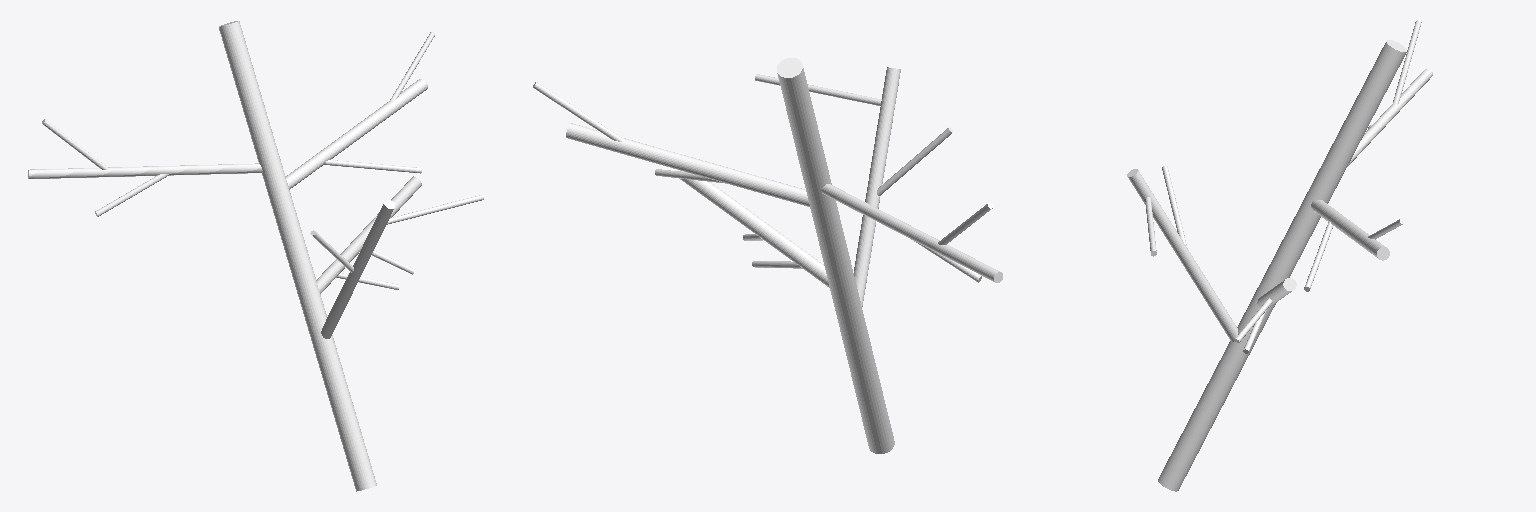
robot.urdf — tree_93.urdf:
<?xml version='1.0' encoding='UTF-8'?>
<robot name="tree_93.urdf">
  <link name="branch_0">
    <inertial>
      <origin xyz="0.0 0.0 0.0" rpy="0.0 -0.0 0.0"/>
      <mass value="1.0"/>
      <inertia ixx="1.0" ixy="0.0" ixz="0.0" iyy="1.0" iyz="0.0" izz="1.0"/>
    </inertial>
    <visual name="branch_0_visual">
      <geometry>
        <cylinder radius="0.15351411436087709" length="6.818421415187422"/>
      </geometry>
      <material name="branch_material"/>
      <origin xyz="-0.2530693742857766 1.4965127373265363 3.0527238931140914" rpy="-2.7755575615628914e-17 0.46139075308703276 1.738317526022926"/>
    </visual>
    <collision name="branch_0_collision">
      <geometry>
        <cylinder radius="0.15351411436087709" length="6.818421415187422"/>
      </geometry>
      <origin xyz="-0.2530693742857766 1.4965127373265363 3.0527238931140914" rpy="-2.7755575615628914e-17 0.46139075308703276 1.738317526022926"/>
    </collision>
  </link>
  <link name="branch_1">
    <inertial>
      <origin xyz="0.0 0.0 0.0" rpy="0.0 -0.0 0.0"/>
      <mass value="1.0"/>
      <inertia ixx="1.0" ixy="0.0" ixz="0.0" iyy="1.0" iyz="0.0" izz="1.0"/>
    </inertial>
    <visual name="branch_1_visual">
      <geometry>
        <cylinder radius="0.08304707432732915" length="2.9864211210712157"/>
      </geometry>
      <material name="branch_material"/>
      <origin xyz="0.0 0.0 0.0" rpy="0.0 -0.0 0.0"/>
    </visual>
    <collision name="branch_1_collision">
      <geometry>
        <cylinder radius="0.08304707432732915" length="2.9864211210712157"/>
      </geometry>
      <origin xyz="0.0 0.0 0.0" rpy="0.0 -0.0 0.0"/>
    </collision>
  </link>
  <link name="branch_2">
    <inertial>
      <origin xyz="0.0 0.0 0.0" rpy="0.0 -0.0 0.0"/>
      <mass value="1.0"/>
      <inertia ixx="1.0" ixy="0.0" ixz="0.0" iyy="1.0" iyz="0.0" izz="1.0"/>
    </inertial>
    <visual name="branch_2_visual">
      <geometry>
        <cylinder radius="0.04" length="1.7059392142212688"/>
      </geometry>
      <material name="branch_material"/>
      <origin xyz="0.0 0.0 0.0" rpy="0.0 -0.0 0.0"/>
    </visual>
    <collision name="branch_2_collision">
      <geometry>
        <cylinder radius="0.04" length="1.7059392142212688"/>
      </geometry>
      <origin xyz="0.0 0.0 0.0" rpy="0.0 -0.0 0.0"/>
    </collision>
  </link>
  <link name="branch_3">
    <inertial>
      <origin xyz="0.0 0.0 0.0" rpy="0.0 -0.0 0.0"/>
      <mass value="1.0"/>
      <inertia ixx="1.0" ixy="0.0" ixz="0.0" iyy="1.0" iyz="0.0" izz="1.0"/>
    </inertial>
    <visual name="branch_3_visual">
      <geometry>
        <cylinder radius="0.04" length="1.3146801640244725"/>
      </geometry>
      <material name="branch_material"/>
      <origin xyz="0.0 0.0 0.0" rpy="0.0 -0.0 0.0"/>
    </visual>
    <collision name="branch_3_collision">
      <geometry>
        <cylinder radius="0.04" length="1.3146801640244725"/>
      </geometry>
      <origin xyz="0.0 0.0 0.0" rpy="0.0 -0.0 0.0"/>
    </collision>
  </link>
  <link name="branch_4">
    <inertial>
      <origin xyz="0.0 0.0 0.0" rpy="0.0 -0.0 0.0"/>
      <mass value="1.0"/>
      <inertia ixx="1.0" ixy="0.0" ixz="0.0" iyy="1.0" iyz="0.0" izz="1.0"/>
    </inertial>
    <visual name="branch_4_visual">
      <geometry>
        <cylinder radius="0.09128935980733967" length="3.067179369036539"/>
      </geometry>
      <material name="branch_material"/>
      <origin xyz="0.0 0.0 0.0" rpy="0.0 -0.0 0.0"/>
    </visual>
    <collision name="branch_4_collision">
      <geometry>
        <cylinder radius="0.09128935980733967" length="3.067179369036539"/>
      </geometry>
      <origin xyz="0.0 0.0 0.0" rpy="0.0 -0.0 0.0"/>
    </collision>
  </link>
  <link name="branch_5">
    <inertial>
      <origin xyz="0.0 0.0 0.0" rpy="0.0 -0.0 0.0"/>
      <mass value="1.0"/>
      <inertia ixx="1.0" ixy="0.0" ixz="0.0" iyy="1.0" iyz="0.0" izz="1.0"/>
    </inertial>
    <visual name="branch_5_visual">
      <geometry>
        <cylinder radius="0.04" length="1.5644731136967114"/>
      </geometry>
      <material name="branch_material"/>
      <origin xyz="0.0 0.0 0.0" rpy="0.0 -0.0 0.0"/>
    </visual>
    <collision name="branch_5_collision">
      <geometry>
        <cylinder radius="0.04" length="1.5644731136967114"/>
      </geometry>
      <origin xyz="0.0 0.0 0.0" rpy="0.0 -0.0 0.0"/>
    </collision>
  </link>
  <link name="branch_6">
    <inertial>
      <origin xyz="0.0 0.0 0.0" rpy="0.0 -0.0 0.0"/>
      <mass value="1.0"/>
      <inertia ixx="1.0" ixy="0.0" ixz="0.0" iyy="1.0" iyz="0.0" izz="1.0"/>
    </inertial>
    <visual name="branch_6_visual">
      <geometry>
        <cylinder radius="0.04" length="1.360397177433686"/>
      </geometry>
      <material name="branch_material"/>
      <origin xyz="0.0 0.0 0.0" rpy="0.0 -0.0 0.0"/>
    </visual>
    <collision name="branch_6_collision">
      <geometry>
        <cylinder radius="0.04" length="1.360397177433686"/>
      </geometry>
      <origin xyz="0.0 0.0 0.0" rpy="0.0 -0.0 0.0"/>
    </collision>
  </link>
  <link name="branch_7">
    <inertial>
      <origin xyz="0.0 0.0 0.0" rpy="0.0 -0.0 0.0"/>
      <mass value="1.0"/>
      <inertia ixx="1.0" ixy="0.0" ixz="0.0" iyy="1.0" iyz="0.0" izz="1.0"/>
    </inertial>
    <visual name="branch_7_visual">
      <geometry>
        <cylinder radius="0.06896295375014307" length="3.442721780825523"/>
      </geometry>
      <material name="branch_material"/>
      <origin xyz="0.0 0.0 0.0" rpy="0.0 -0.0 0.0"/>
    </visual>
    <collision name="branch_7_collision">
      <geometry>
        <cylinder radius="0.06896295375014307" length="3.442721780825523"/>
      </geometry>
      <origin xyz="0.0 0.0 0.0" rpy="0.0 -0.0 0.0"/>
    </collision>
  </link>
  <link name="branch_8">
    <inertial>
      <origin xyz="0.0 0.0 0.0" rpy="0.0 -0.0 0.0"/>
      <mass value="1.0"/>
      <inertia ixx="1.0" ixy="0.0" ixz="0.0" iyy="1.0" iyz="0.0" izz="1.0"/>
    </inertial>
    <visual name="branch_8_visual">
      <geometry>
        <cylinder radius="0.04283286241382316" length="1.2624558255575156"/>
      </geometry>
      <material name="branch_material"/>
      <origin xyz="0.0 0.0 0.0" rpy="0.0 -0.0 0.0"/>
    </visual>
    <collision name="branch_8_collision">
      <geometry>
        <cylinder radius="0.04283286241382316" length="1.2624558255575156"/>
      </geometry>
      <origin xyz="0.0 0.0 0.0" rpy="0.0 -0.0 0.0"/>
    </collision>
  </link>
  <link name="branch_9">
    <inertial>
      <origin xyz="0.0 0.0 0.0" rpy="0.0 -0.0 0.0"/>
      <mass value="1.0"/>
      <inertia ixx="1.0" ixy="0.0" ixz="0.0" iyy="1.0" iyz="0.0" izz="1.0"/>
    </inertial>
    <visual name="branch_9_visual">
      <geometry>
        <cylinder radius="0.04" length="1.2751810798749723"/>
      </geometry>
      <material name="branch_material"/>
      <origin xyz="0.0 0.0 0.0" rpy="0.0 -0.0 0.0"/>
    </visual>
    <collision name="branch_9_collision">
      <geometry>
        <cylinder radius="0.04" length="1.2751810798749723"/>
      </geometry>
      <origin xyz="0.0 0.0 0.0" rpy="0.0 -0.0 0.0"/>
    </collision>
  </link>
  <link name="branch_10">
    <inertial>
      <origin xyz="0.0 0.0 0.0" rpy="0.0 -0.0 0.0"/>
      <mass value="1.0"/>
      <inertia ixx="1.0" ixy="0.0" ixz="0.0" iyy="1.0" iyz="0.0" izz="1.0"/>
    </inertial>
    <visual name="branch_10_visual">
      <geometry>
        <cylinder radius="0.08939212043829362" length="2.31613501663962"/>
      </geometry>
      <material name="branch_material"/>
      <origin xyz="0.0 0.0 0.0" rpy="0.0 -0.0 0.0"/>
    </visual>
    <collision name="branch_10_collision">
      <geometry>
        <cylinder radius="0.08939212043829362" length="2.31613501663962"/>
      </geometry>
      <origin xyz="0.0 0.0 0.0" rpy="0.0 -0.0 0.0"/>
    </collision>
  </link>
  <link name="branch_11">
    <inertial>
      <origin xyz="0.0 0.0 0.0" rpy="0.0 -0.0 0.0"/>
      <mass value="1.0"/>
      <inertia ixx="1.0" ixy="0.0" ixz="0.0" iyy="1.0" iyz="0.0" izz="1.0"/>
    </inertial>
    <visual name="branch_11_visual">
      <geometry>
        <cylinder radius="0.04" length="0.8813783189782513"/>
      </geometry>
      <material name="branch_material"/>
      <origin xyz="0.0 0.0 0.0" rpy="0.0 -0.0 0.0"/>
    </visual>
    <collision name="branch_11_collision">
      <geometry>
        <cylinder radius="0.04" length="0.8813783189782513"/>
      </geometry>
      <origin xyz="0.0 0.0 0.0" rpy="0.0 -0.0 0.0"/>
    </collision>
  </link>
  <link name="branch_12">
    <inertial>
      <origin xyz="0.0 0.0 0.0" rpy="0.0 -0.0 0.0"/>
      <mass value="1.0"/>
      <inertia ixx="1.0" ixy="0.0" ixz="0.0" iyy="1.0" iyz="0.0" izz="1.0"/>
    </inertial>
    <visual name="branch_12_visual">
      <geometry>
        <cylinder radius="0.04" length="1.0190474809430379"/>
      </geometry>
      <material name="branch_material"/>
      <origin xyz="0.0 0.0 0.0" rpy="0.0 -0.0 0.0"/>
    </visual>
    <collision name="branch_12_collision">
      <geometry>
        <cylinder radius="0.04" length="1.0190474809430379"/>
      </geometry>
      <origin xyz="0.0 0.0 0.0" rpy="0.0 -0.0 0.0"/>
    </collision>
  </link>
  <joint name="joint_0_1" type="fixed">
    <parent link="branch_0"/>
    <child link="branch_1"/>
    <axis xyz="1. 0. 0."/>
    <origin xyz="-0.027777948669087695 0.2434563036230218 3.2510396350801907" rpy="-0.005467285661553573 0.5045993440241653 -1.3962921062265123"/>
  </joint>
  <joint name="joint_0_4" type="fixed">
    <parent link="branch_0"/>
    <child link="branch_4"/>
    <axis xyz="1. 0. 0."/>
    <origin xyz="1.1098265813982777 2.3683453596802444 4.22351736205122" rpy="-1.1498559493061864 1.0615134379962414 -0.8957073757942373"/>
  </joint>
  <joint name="joint_0_7" type="fixed">
    <parent link="branch_0"/>
    <child link="branch_7"/>
    <axis xyz="1. 0. 0."/>
    <origin xyz="-1.9342963644233166 2.732392561566729 4.258633874229963" rpy="1.4974631859828291 1.1697851736243412 -2.0375698035275542"/>
  </joint>
  <joint name="joint_0_10" type="fixed">
    <parent link="branch_0"/>
    <child link="branch_10"/>
    <axis xyz="1. 0. 0."/>
    <origin xyz="0.76785213741575 1.4148041444110375 3.1164292134805516" rpy="-0.6978866944611786 0.8347472554458836 -0.6657424239275618"/>
  </joint>
  <joint name="joint_1_2" type="fixed">
    <parent link="branch_0"/>
    <child link="branch_2"/>
    <axis xyz="1. 0. 0."/>
    <origin xyz="0.9201973328135187 -0.2279457061693211 4.180323028093148" rpy="1.598557953048084 1.0705425544539457 1.641127503157561"/>
  </joint>
  <joint name="joint_1_3" type="fixed">
    <parent link="branch_0"/>
    <child link="branch_3"/>
    <axis xyz="1. 0. 0."/>
    <origin xyz="-0.46279819821379203 0.10132325203559053 3.711229178285805" rpy="-0.5632785140019441 0.5594163181636045 2.59843666913856"/>
  </joint>
  <joint name="joint_4_5" type="fixed">
    <parent link="branch_0"/>
    <child link="branch_5"/>
    <axis xyz="1. 0. 0."/>
    <origin xyz="1.1932333144969456 1.9898919180682588 3.9078595392347393" rpy="-1.8535915731232155 0.638349535093635 -1.9708898092558833"/>
  </joint>
  <joint name="joint_4_6" type="fixed">
    <parent link="branch_0"/>
    <child link="branch_6"/>
    <axis xyz="1. 0. 0."/>
    <origin xyz="2.3355000388316105 2.8286915856460415 4.758234473145128" rpy="0.4420680271583908 -0.8996505853890169 3.0329645402445573"/>
  </joint>
  <joint name="joint_7_8" type="fixed">
    <parent link="branch_0"/>
    <child link="branch_8"/>
    <axis xyz="1. 0. 0."/>
    <origin xyz="-2.249456014849317 2.6377657836855324 4.039748579204416" rpy="2.026293803322137 0.7121021326026258 -1.3002224877668103"/>
  </joint>
  <joint name="joint_7_9" type="fixed">
    <parent link="branch_0"/>
    <child link="branch_9"/>
    <axis xyz="1. 0. 0."/>
    <origin xyz="-2.9011226166701793 3.116697304273714 4.704897262946873" rpy="0.0771473958193397 -0.8279861890244659 -0.4576092635306804"/>
  </joint>
  <joint name="joint_10_11" type="fixed">
    <parent link="branch_0"/>
    <child link="branch_11"/>
    <axis xyz="1. 0. 0."/>
    <origin xyz="0.9696780122013906 1.1468301151617135 2.864672112786016" rpy="-2.1630204041394494 0.7389141498613254 -2.6588678214258725"/>
  </joint>
  <joint name="joint_10_12" type="fixed">
    <parent link="branch_0"/>
    <child link="branch_12"/>
    <axis xyz="1. 0. 0."/>
    <origin xyz="0.6379448912039627 1.1617675870179107 2.5983679839983935" rpy="-2.159958846332315 0.9849476009118033 -2.3812018577314515"/>
  </joint>
  <material name="branch_material">
    <color rgba="1. 1. 1. 1."/>
  </material>
</robot>

--- Facts derived from the render (not from the file) ---
Views: 3 orthographic renders of the robot side by side, from view 1: azimuth 30°, elevation 25°; view 2: azimuth 150°, elevation 25°; view 3: azimuth 270°, elevation 25°.
Robot: tree_93.urdf — 13 links, 12 joints (12 fixed); root link branch_0; default pose: all joints at 0.
Visible links, largest first — view 1: branch_0, branch_7, branch_4, branch_1, branch_10, branch_2, branch_5; view 2: branch_0, branch_4, branch_1, branch_10, branch_7, branch_6, branch_2, branch_3; view 3: branch_0, branch_1, branch_4, branch_7, branch_9.
Link boxes in pixels (x1,y1,x2,y2): branch_0: [219, 21, 376, 491]; branch_7: [28, 163, 262, 178]; branch_4: [286, 79, 427, 189]; branch_1: [321, 200, 394, 338]; branch_10: [316, 176, 421, 293]; branch_2: [387, 195, 483, 224]; branch_5: [324, 160, 421, 173]; branch_0: [777, 58, 894, 453]; branch_4: [566, 123, 809, 206]; branch_1: [854, 67, 900, 306]; branch_10: [679, 171, 829, 287]; branch_7: [821, 184, 1002, 282]; branch_6: [533, 82, 623, 141]; branch_2: [755, 74, 881, 105]; branch_3: [877, 127, 953, 195]; branch_0: [1158, 40, 1406, 491]; branch_1: [1127, 169, 1237, 341]; branch_4: [1311, 200, 1389, 260]; branch_7: [1347, 69, 1432, 166]; branch_9: [1393, 20, 1421, 104].
Bounding box of the posed robot: 6.42 × 4 × 6.24 m (x, y, z).
Geometry: primitives only (box / cylinder / sphere), no mesh files.